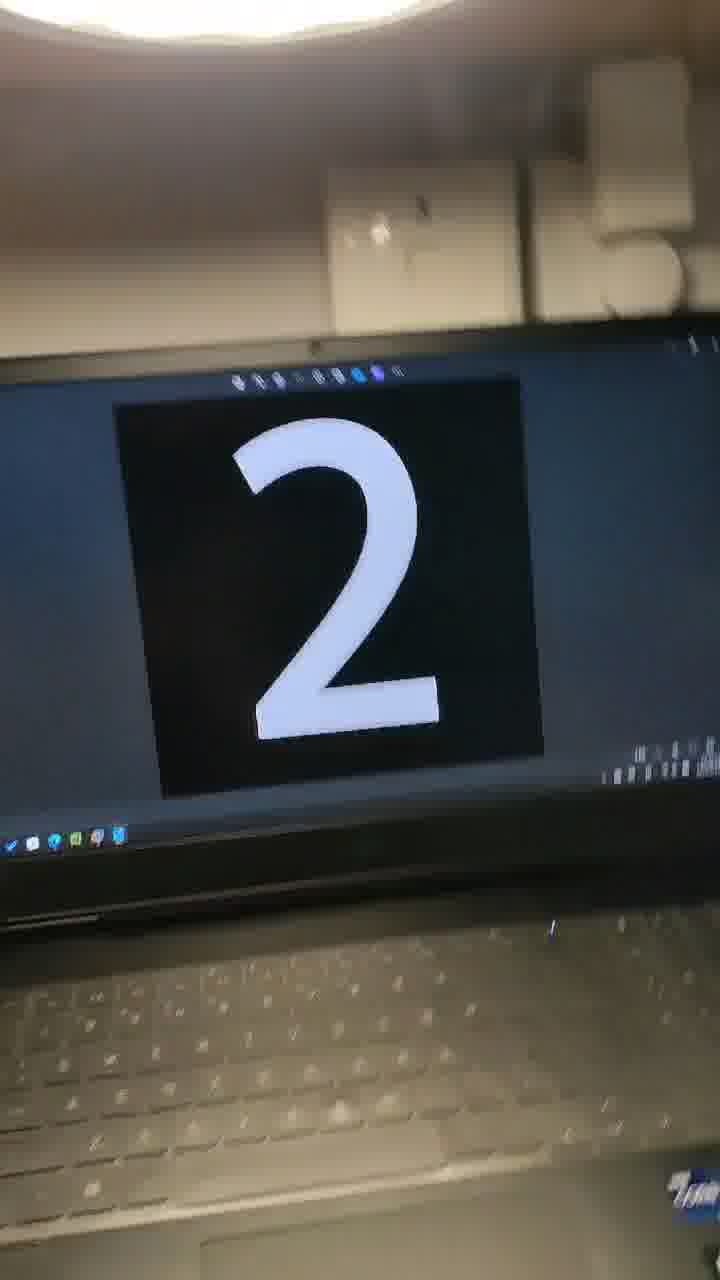two: (142, 341, 497, 846)
